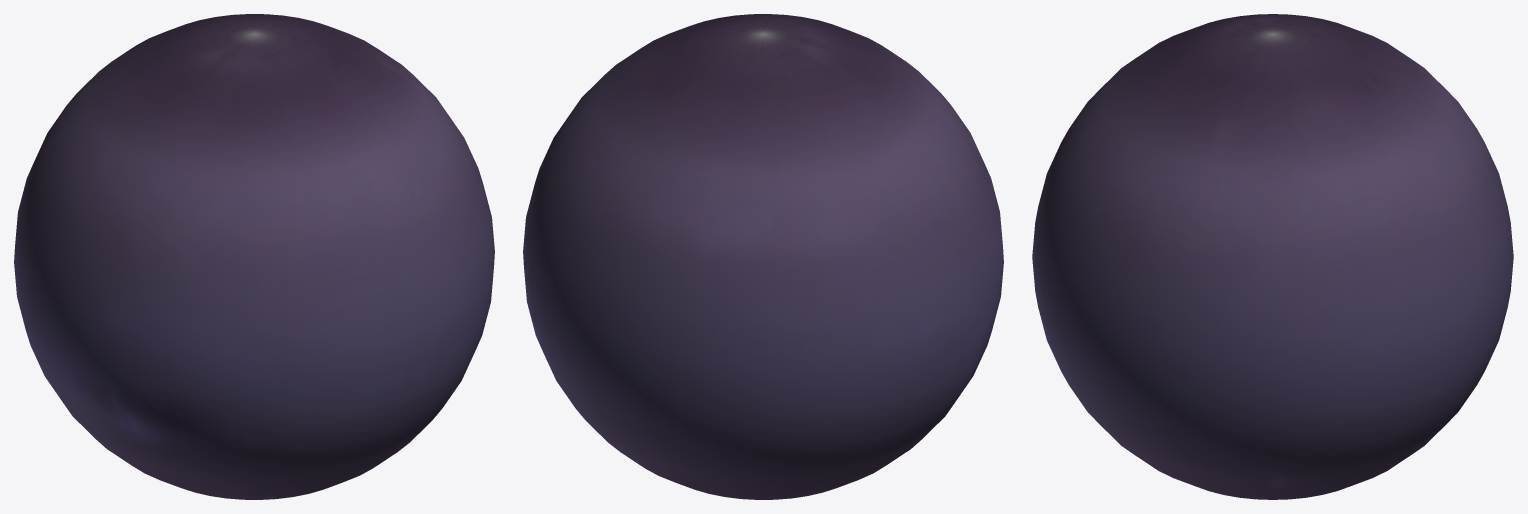
The model's file is Big_Planet 1.fbx.
The picture shows the model from 3 angles, left to right: view 1: azimuth 30°, elevation 25°; view 2: azimuth 150°, elevation 25°; view 3: azimuth 270°, elevation 25°; orthographic projection.
Parts seen in each view (by area): view 1: Big_Planet; view 2: Big_Planet; view 3: Big_Planet.
Part boxes in pixels (box(x1,y1,x2,y2)): Big_Planet: box(14, 14, 494, 499); Big_Planet: box(523, 14, 1003, 499); Big_Planet: box(1032, 14, 1513, 499).
Bounding box in the file's own units: 458 × 467 × 458.
